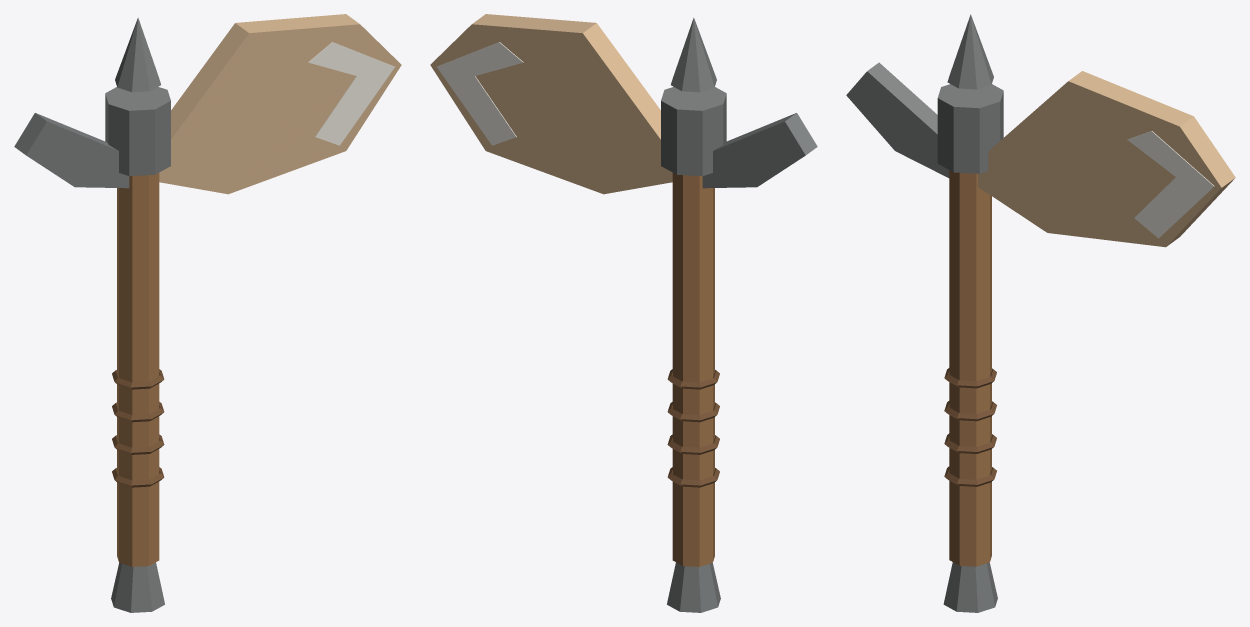
The model's file is t2_axe.glb.
3 views of the same model, side by side, from view 1: azimuth 30°, elevation 25°; view 2: azimuth 150°, elevation 25°; view 3: azimuth 330°, elevation 25° (orthographic).
Parts seen in each view (by area): view 1: RightBlade, WoodHandle, TopSocket, BackSpike, RightBladeEdge, BottomPommel, TopSpike; view 2: RightBlade, WoodHandle, TopSocket, BackSpike, RightBladeEdge, BottomPommel, TopSpike; view 3: RightBlade, WoodHandle, BackSpike, TopSocket, RightBladeEdge, BottomPommel, TopSpike.
Boxes of the visible parts, x1=… form: RightBlade: x1=159, y1=14, x2=401, y2=194; WoodHandle: x1=117, y1=173, x2=159, y2=566; TopSocket: x1=105, y1=87, x2=170, y2=176; BackSpike: x1=14, y1=113, x2=129, y2=188; RightBladeEdge: x1=308, y1=42, x2=394, y2=145; BottomPommel: x1=111, y1=562, x2=164, y2=612; TopSpike: x1=115, y1=17, x2=160, y2=92; RightBlade: x1=430, y1=14, x2=672, y2=194; WoodHandle: x1=672, y1=173, x2=714, y2=566; TopSocket: x1=661, y1=87, x2=726, y2=176; BackSpike: x1=702, y1=113, x2=817, y2=188; RightBladeEdge: x1=437, y1=42, x2=523, y2=145; BottomPommel: x1=667, y1=562, x2=720, y2=612; TopSpike: x1=671, y1=17, x2=716, y2=92; RightBlade: x1=978, y1=71, x2=1235, y2=247; WoodHandle: x1=949, y1=170, x2=991, y2=566; BackSpike: x1=846, y1=62, x2=949, y2=177; TopSocket: x1=937, y1=84, x2=1003, y2=173; RightBladeEdge: x1=1127, y1=131, x2=1214, y2=238; BottomPommel: x1=943, y1=562, x2=997, y2=612; TopSpike: x1=947, y1=14, x2=993, y2=89.
Bounding box in the file's own units: 1.08 × 1.61 × 0.17.
